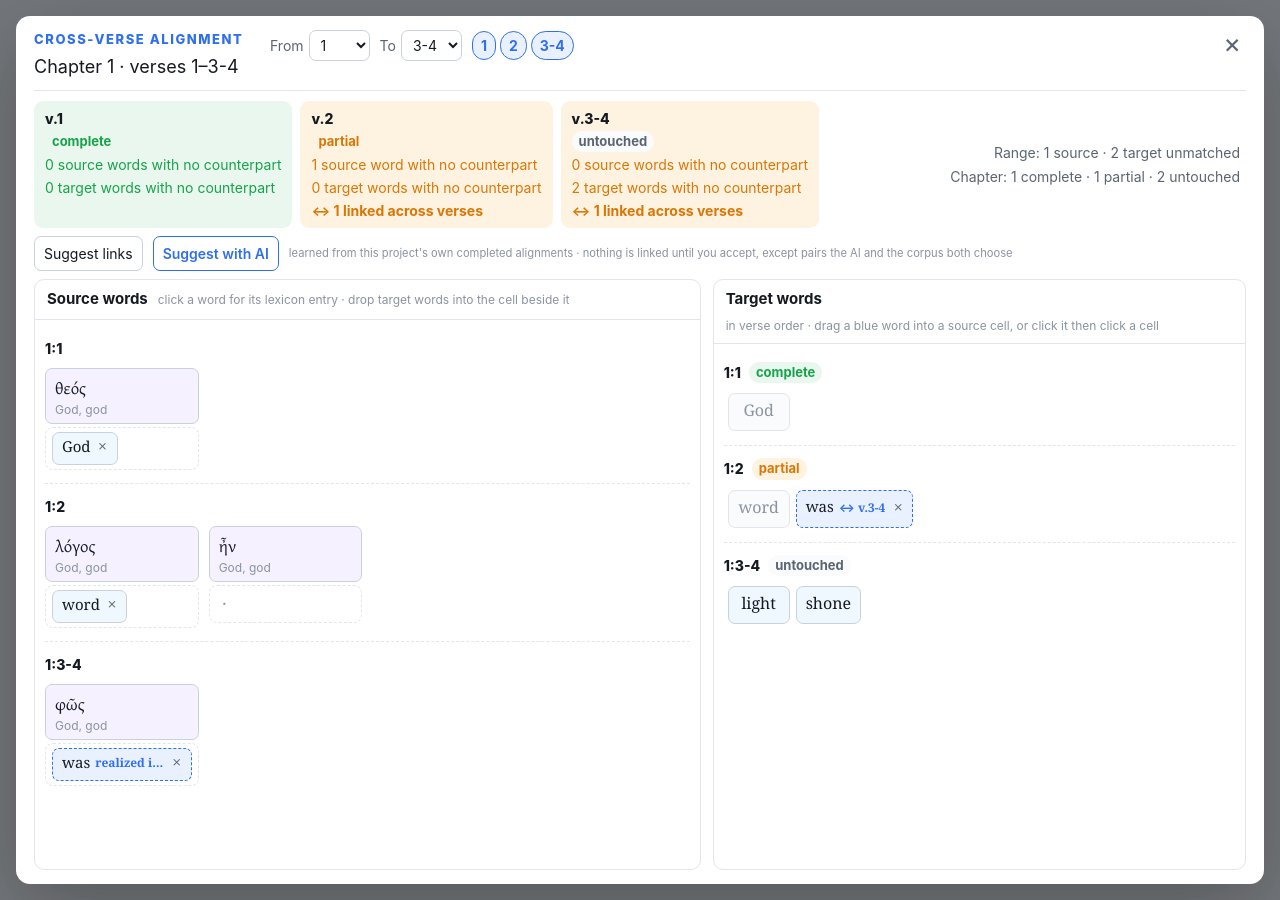
Test case: CrossVerseAlignmentModal › the × on a linked chip or an accounted word removes the link through alignment.crossVerse.unlink
expect the 2nd text "1:2" is shown: met, box [45, 496, 65, 516]
Click the button named "Remove cross-verse link from φῶς to was in verse 2": (177, 764) [169, 756, 185, 772]
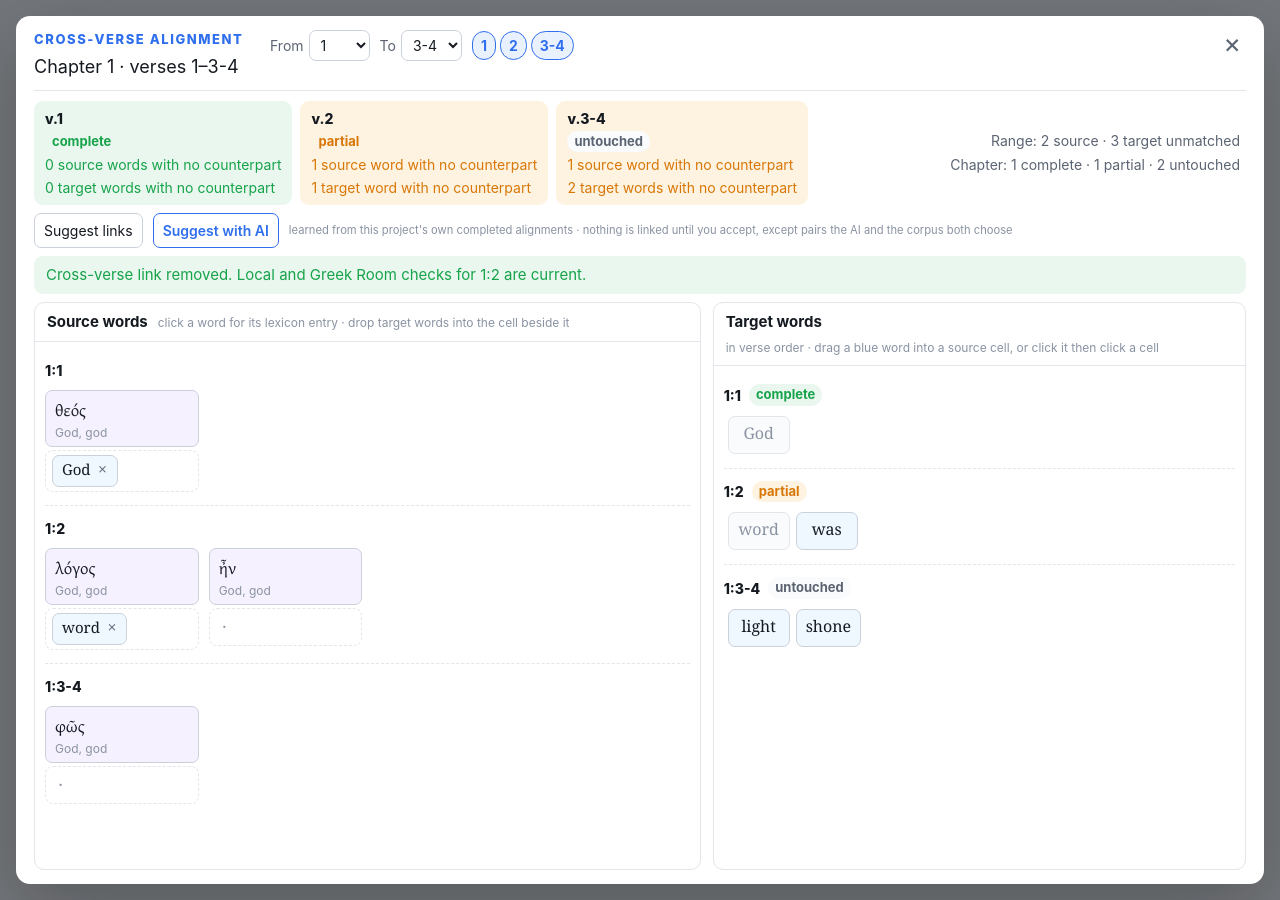
expect the button "was" is shown: met, box [796, 512, 858, 550]
expect the text "Cross-verse link removed" is shown: met, box [46, 265, 586, 284]
